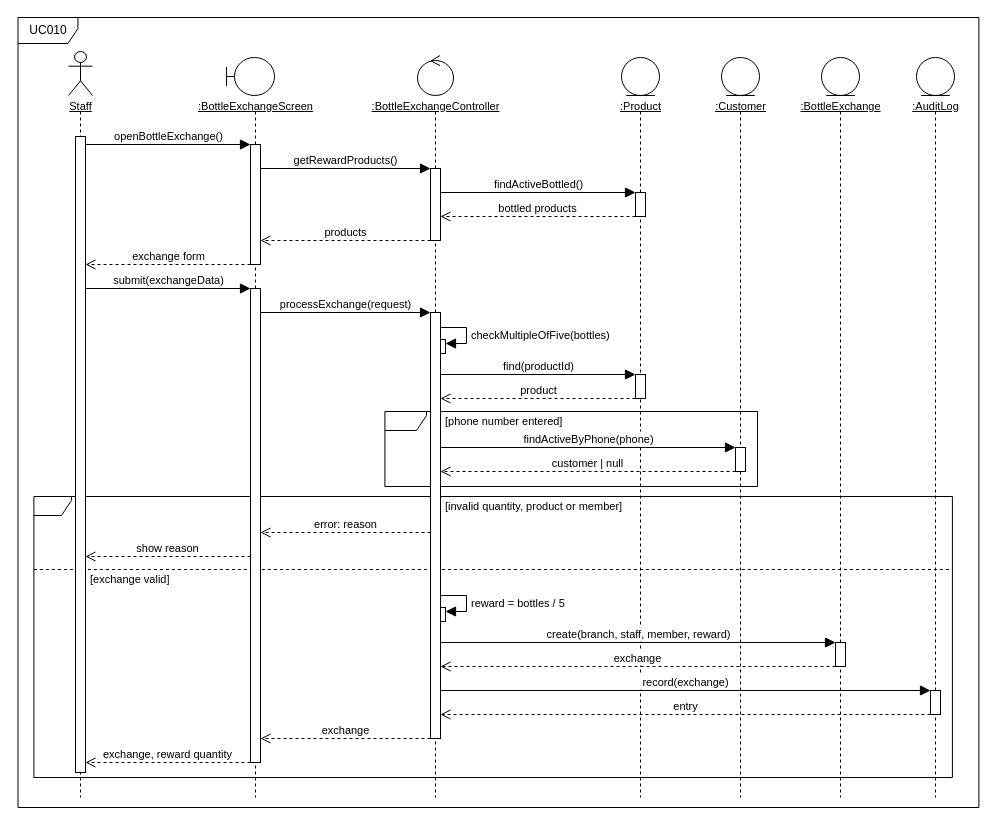
The diagram is 996 pixels wide and 825 high, and some of its shapes have lost their labels. Here are the shapes that lost their labels. From the top down, the box of each, then its label:
(384, 410, 758, 486): opt
(33, 496, 952, 778): alt
